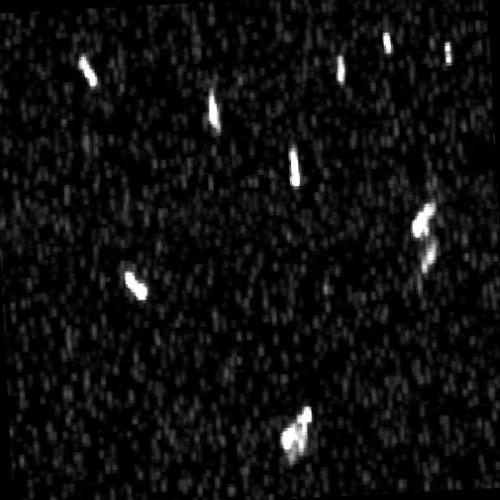ship: (279, 404, 312, 454), (410, 198, 437, 238), (122, 268, 149, 303), (76, 51, 99, 89), (206, 84, 222, 134), (288, 142, 303, 190), (419, 241, 439, 276), (335, 53, 346, 87), (381, 28, 393, 57), (443, 39, 452, 65)
